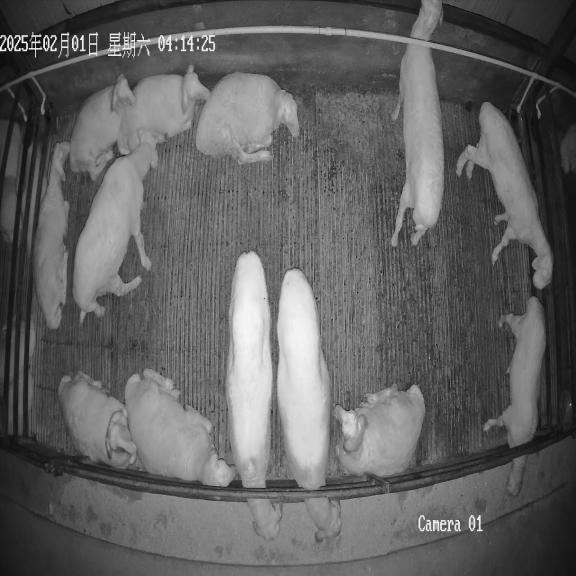eating: (277, 268, 341, 541), (226, 251, 282, 540), (483, 296, 546, 496)
lying: (125, 369, 236, 486), (196, 72, 299, 165), (334, 384, 425, 478), (117, 66, 210, 154), (58, 371, 137, 468), (70, 74, 136, 180), (33, 142, 70, 329)
stand: (457, 102, 553, 289), (73, 134, 158, 322), (391, 0, 444, 247)
